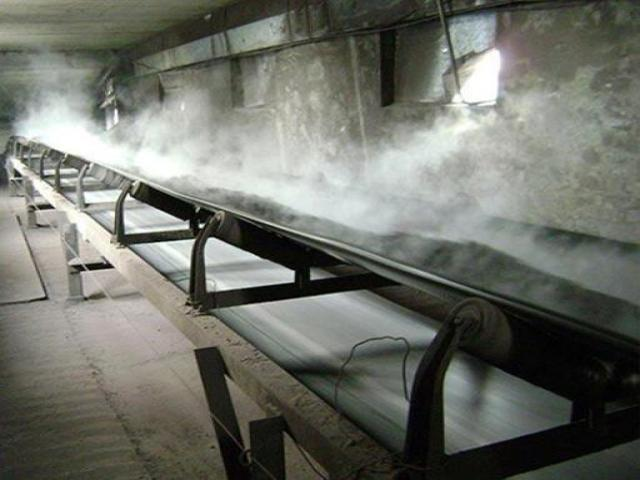conveyor: (0, 128, 639, 479)
